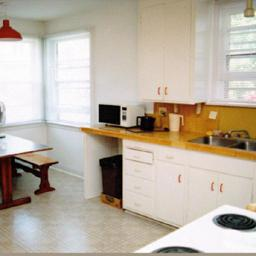Bote de Basura: (97, 154, 123, 207)
Electrodomestico: (132, 205, 255, 251)
Lavaplatos: (184, 124, 252, 155)
Ventana: (39, 39, 95, 127)
